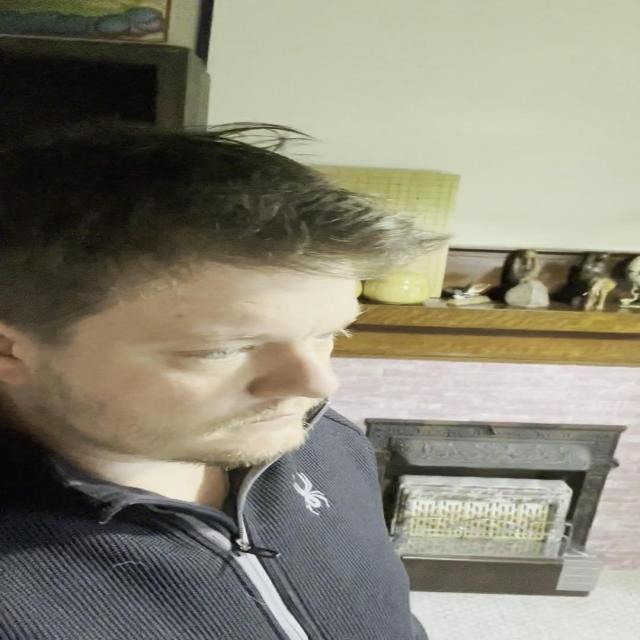no-helmet: (62, 267, 363, 469)
